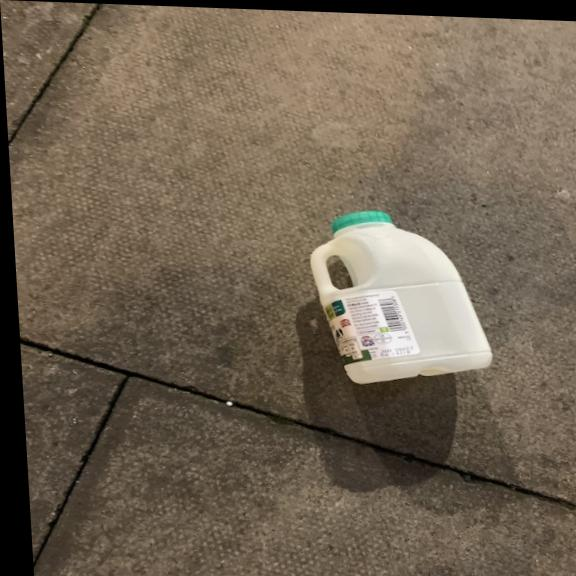Plastik: (301, 208, 499, 394)
